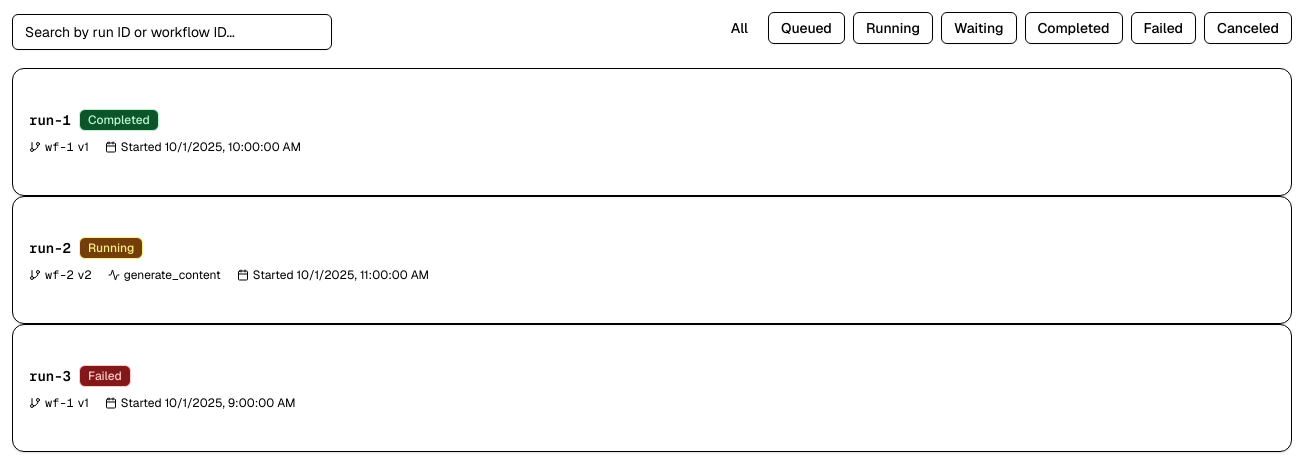
Scenario: RunList › shows empty state when no runs match filters
This screenshot has width=1304, height=470.
Type "nonexistent" into the field with placeholder "Search by run ID or workflow ID..." at (172, 32), box [12,14,332,50]
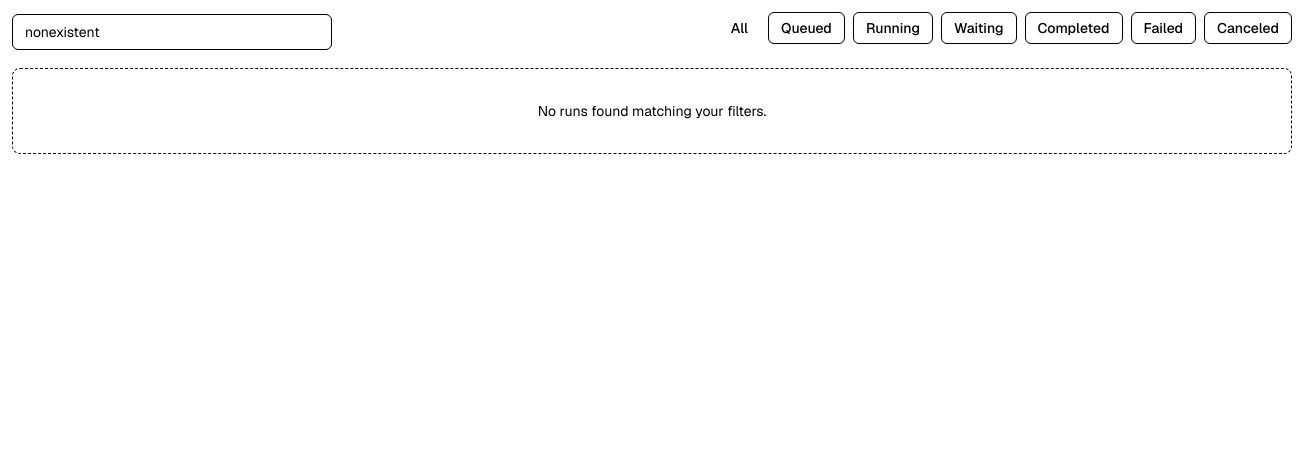
Result: the text "No runs found matching your filters." is shown at [538,102,766,120]
